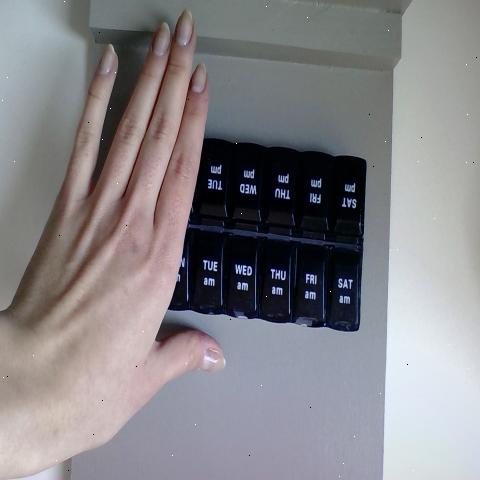FRI-am: (296, 249, 322, 328)
FRI-pm: (300, 155, 328, 238)
Hands: (0, 7, 218, 479)
SAT-am: (326, 252, 358, 332)
SAT-pm: (333, 161, 362, 243)
THU-am: (259, 238, 292, 324)
THU-pm: (266, 146, 296, 232)
TUE-am: (190, 234, 222, 314)
TUE-pm: (200, 138, 230, 229)
WED-am: (223, 238, 258, 323)
WED-pm: (232, 144, 263, 232)
